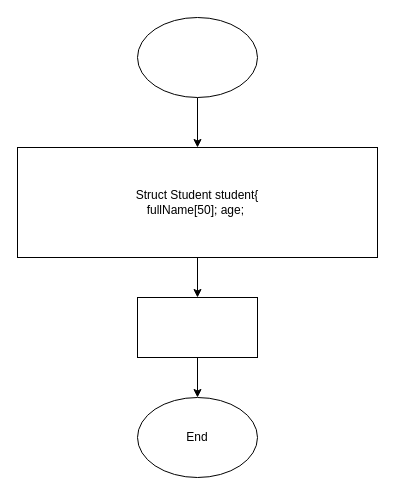
Some shapes in this 395 by 495 pixel diagram are drawn without their labels. Here are the shapes that lost their labels. From the top down, the centre of each, then its label:
At pixel 197 57: "Start".
At pixel 197 327: "Nhập và in".
